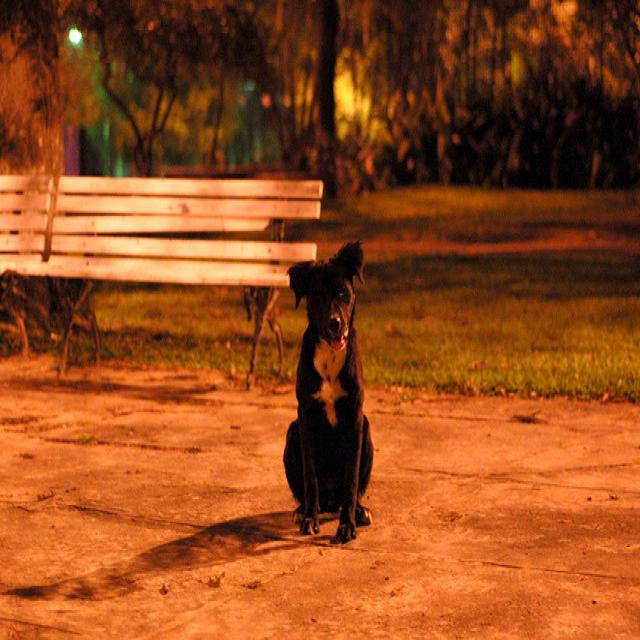Dog: (286, 222, 406, 543)
